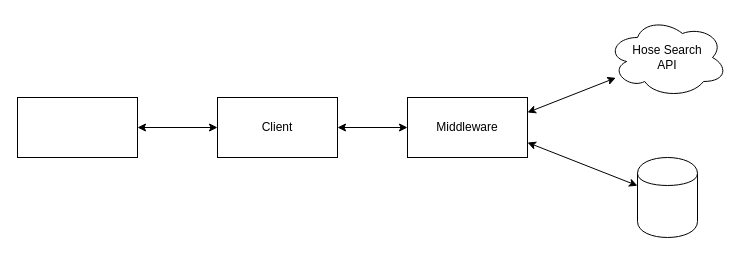
The diagram is 745 pixels wide and 255 high, and some of its shapes have lost their labels. The centre of each missing label's shape, as x and y in pixels:
Database: point (667, 197)
User: point (77, 127)
